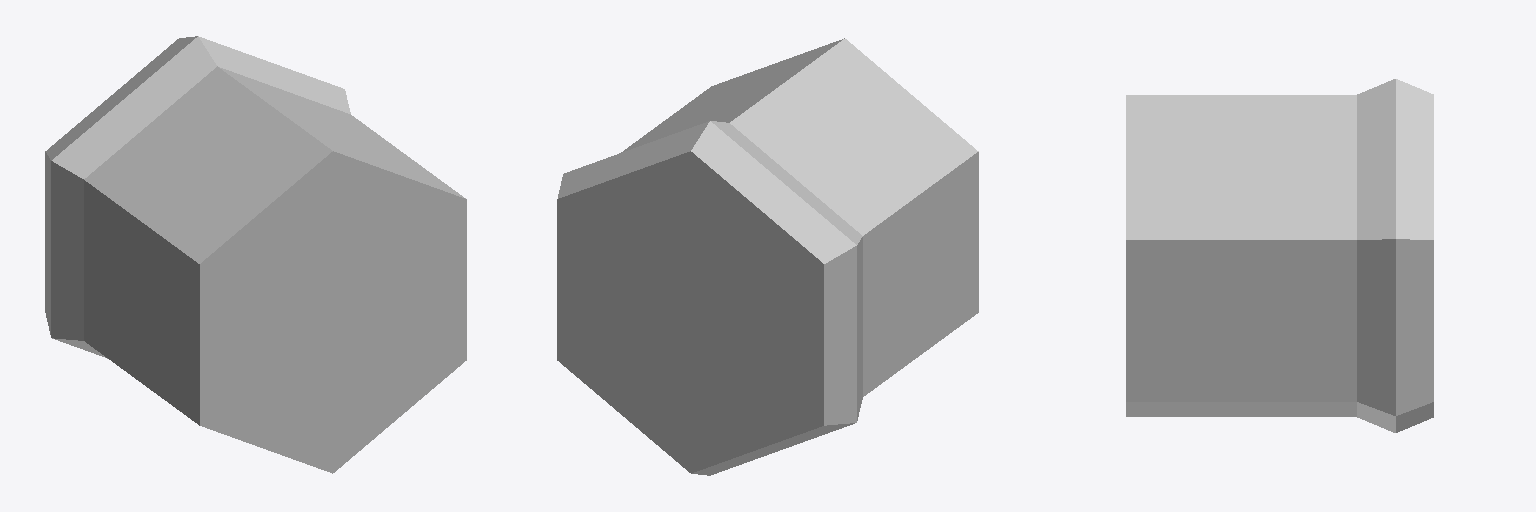
Rendered from block-snow-hexagon.obj.
The picture shows the model from 3 angles: view 1: azimuth 30°, elevation 25°; view 2: azimuth 150°, elevation 25°; view 3: azimuth 270°, elevation 25°; orthographic projection.
Visible parts, largest first — view 1: block-snow-hexagon; view 2: block-snow-hexagon; view 3: block-snow-hexagon.
Boxes of the visible parts, box(x1,y1,x2,y2) form: block-snow-hexagon: box(45, 36, 466, 473); block-snow-hexagon: box(557, 38, 978, 475); block-snow-hexagon: box(1126, 79, 1433, 432).
Size of the model in its own units: 1.1 by 1.27 by 1.